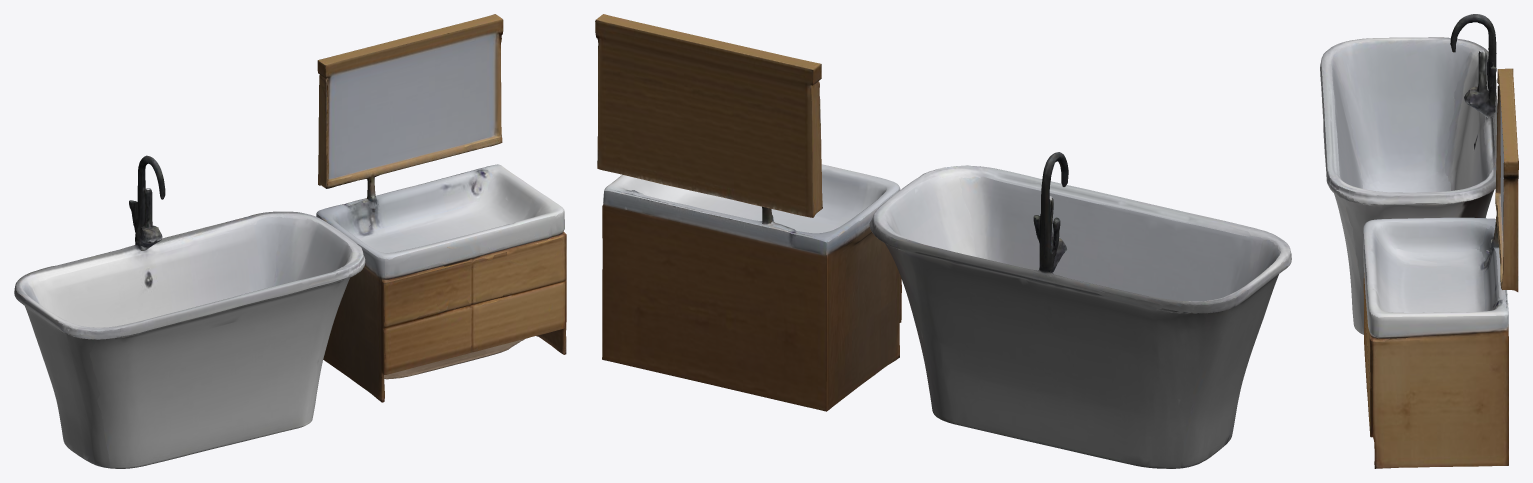
The model's file is bath-set.glb.
3 renders of one model, left to right at view 1: azimuth 30°, elevation 25°; view 2: azimuth 150°, elevation 25°; view 3: azimuth 270°, elevation 25°, orthographic. The views are drawn at different scales.
Visible parts, largest first — view 1: bath-c_s42_d.glb; view 2: bath-c_s42_d.glb; view 3: bath-c_s42_d.glb.
Boxes of the visible parts, x1,y1,x2,y2 form: bath-c_s42_d.glb: [14, 14, 566, 468]; bath-c_s42_d.glb: [595, 14, 1291, 468]; bath-c_s42_d.glb: [1320, 14, 1518, 468].
Size of the model in its own units: 2.67 by 1.45 by 0.85.
Materials: 1 (1 with a texture image).
